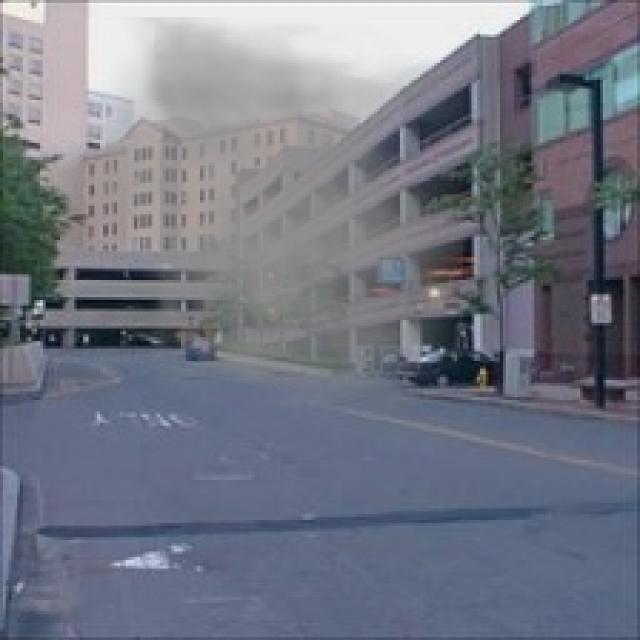Smoke: (66, 17, 463, 412)
